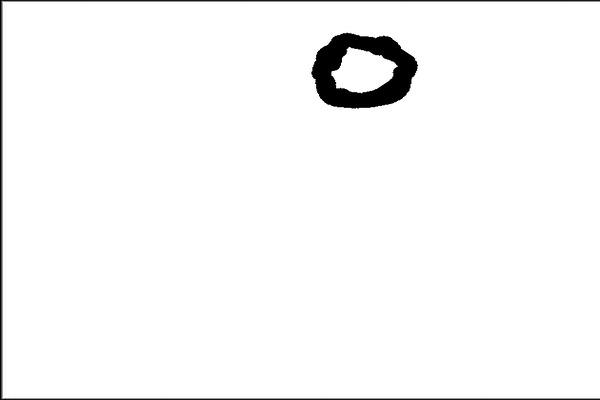O: (308, 20, 422, 120)
